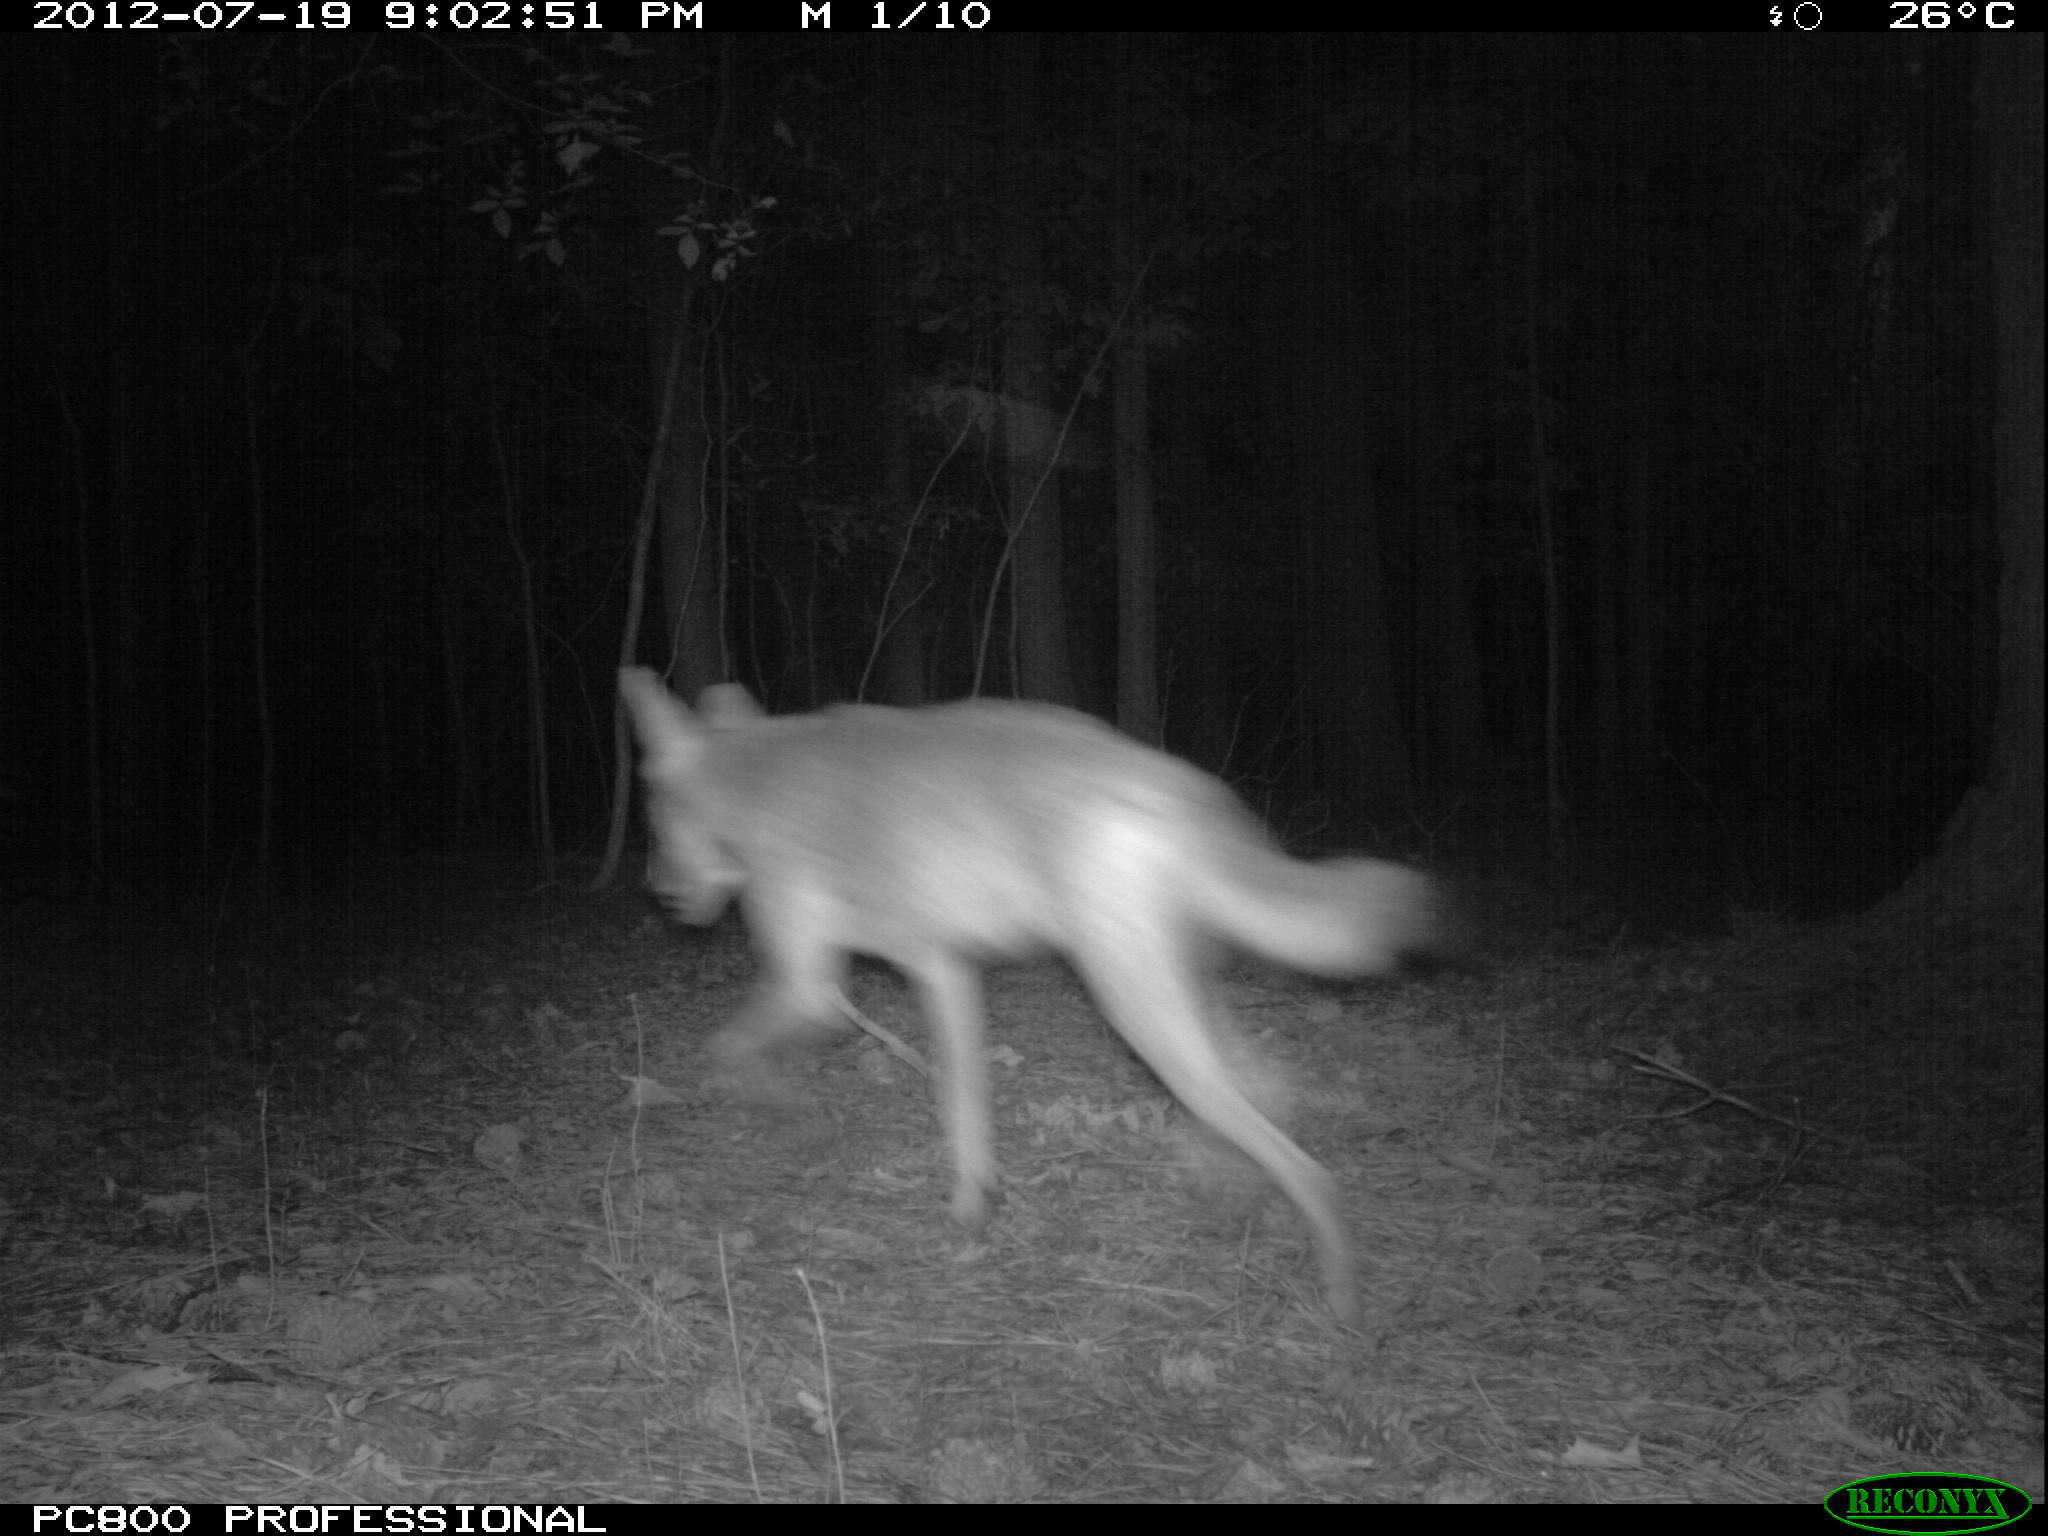coyote: (576, 584, 1540, 1347)
